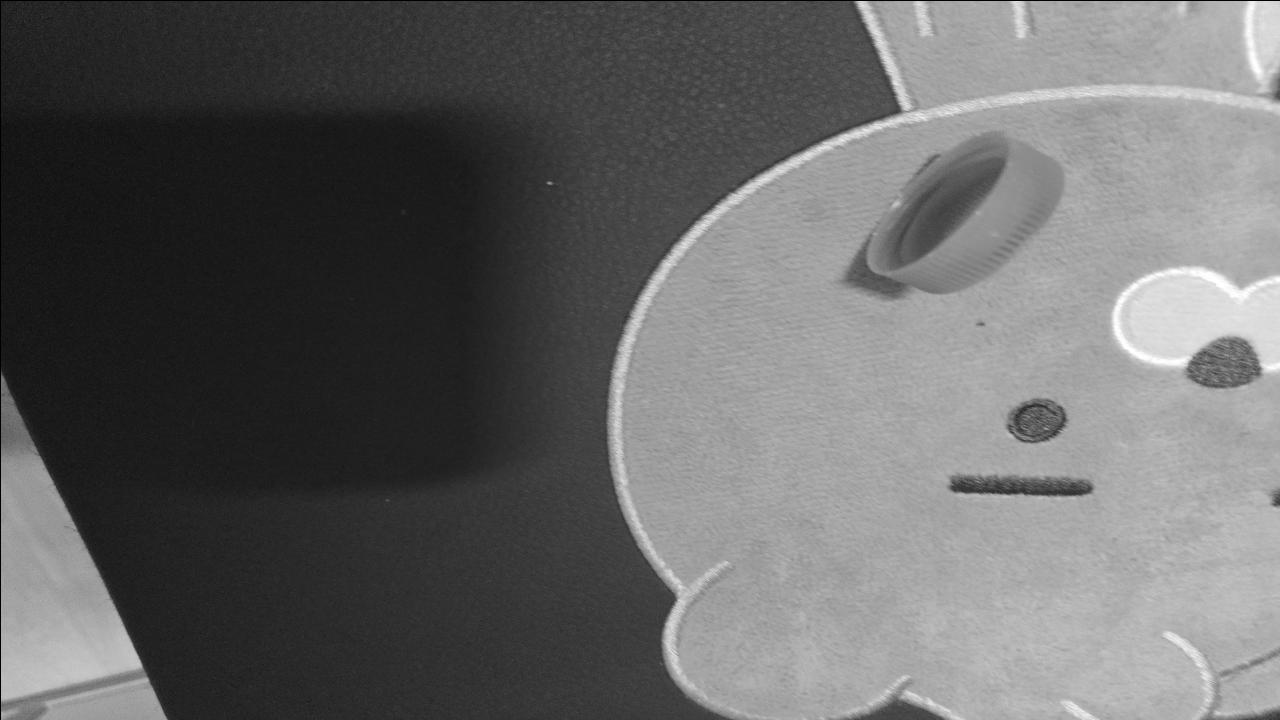bottle_cap: (870, 141, 1060, 292)
